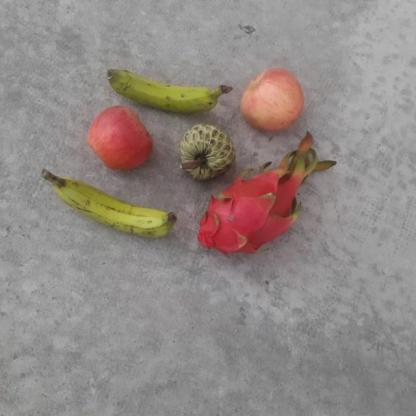annona: (177, 124, 236, 180)
apple: (85, 104, 152, 170), (236, 67, 304, 130)
banana: (56, 176, 181, 242), (106, 66, 237, 113)
pitaya: (198, 170, 302, 255)
